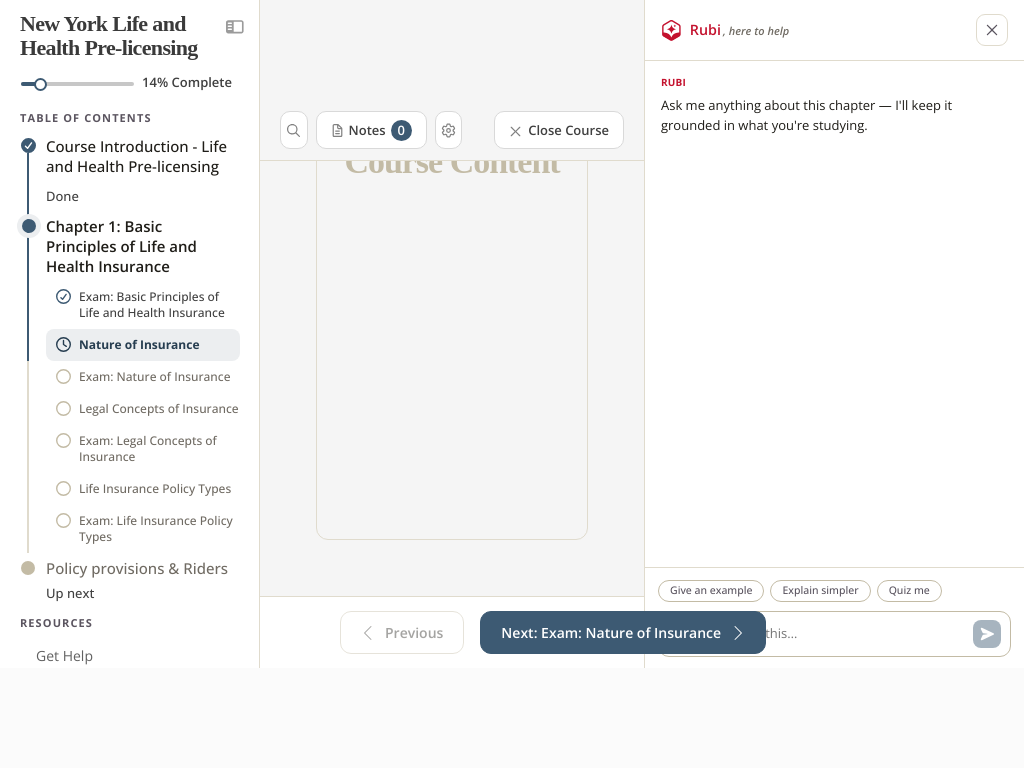
it: Atlas/Compass Global Navigation — the Testing home under the Figma rail › the Compass Course page carries the Rubi right rail, reopened from the player bar
Expected: the element named "Chat with Rubi" is shown, [644,0,1023,668]
# Its own close…
Click the button named "Close Rubi".
click(992, 30)  # box [976,14,1008,46]
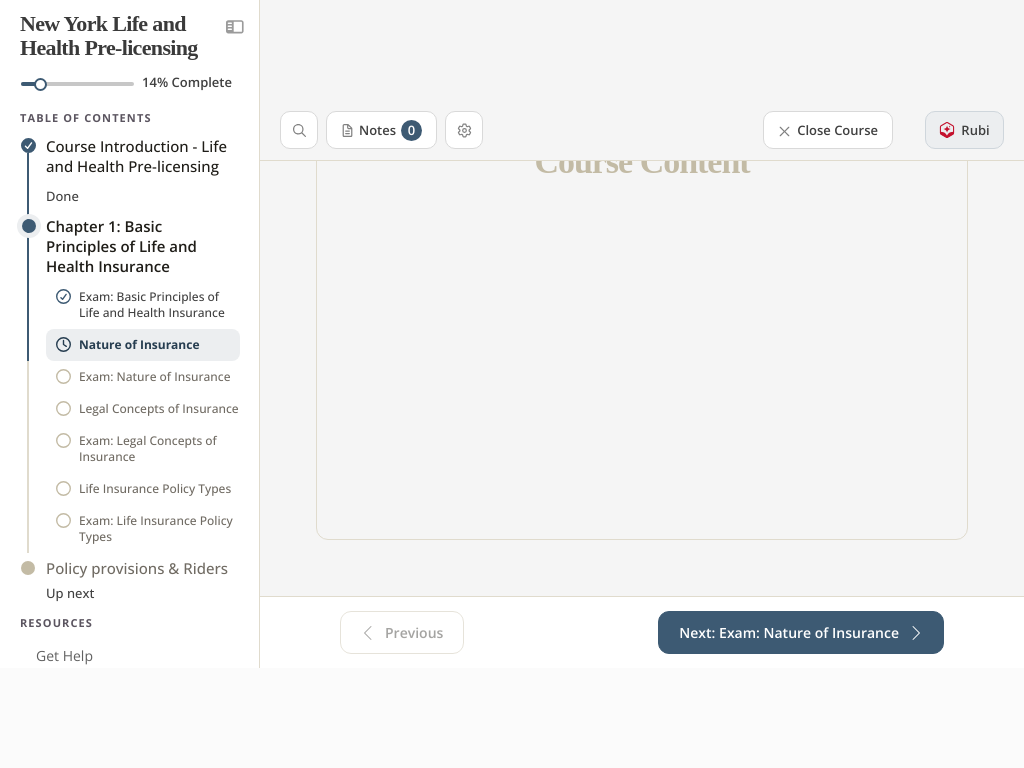
# …and the bar's Rubi button brings it back.
Click the button with aria-label "Open Rubi".
click(964, 130)  # box [925,111,1004,149]
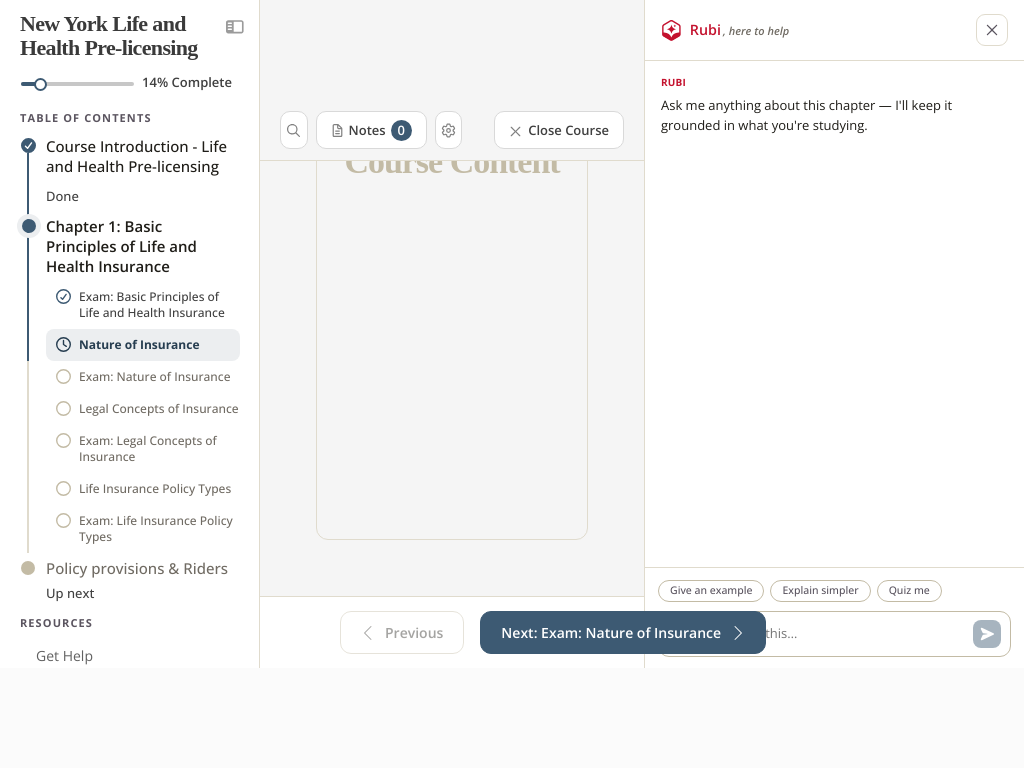
Expected: the element named "Chat with Rubi" is shown, [644,0,1023,668]
